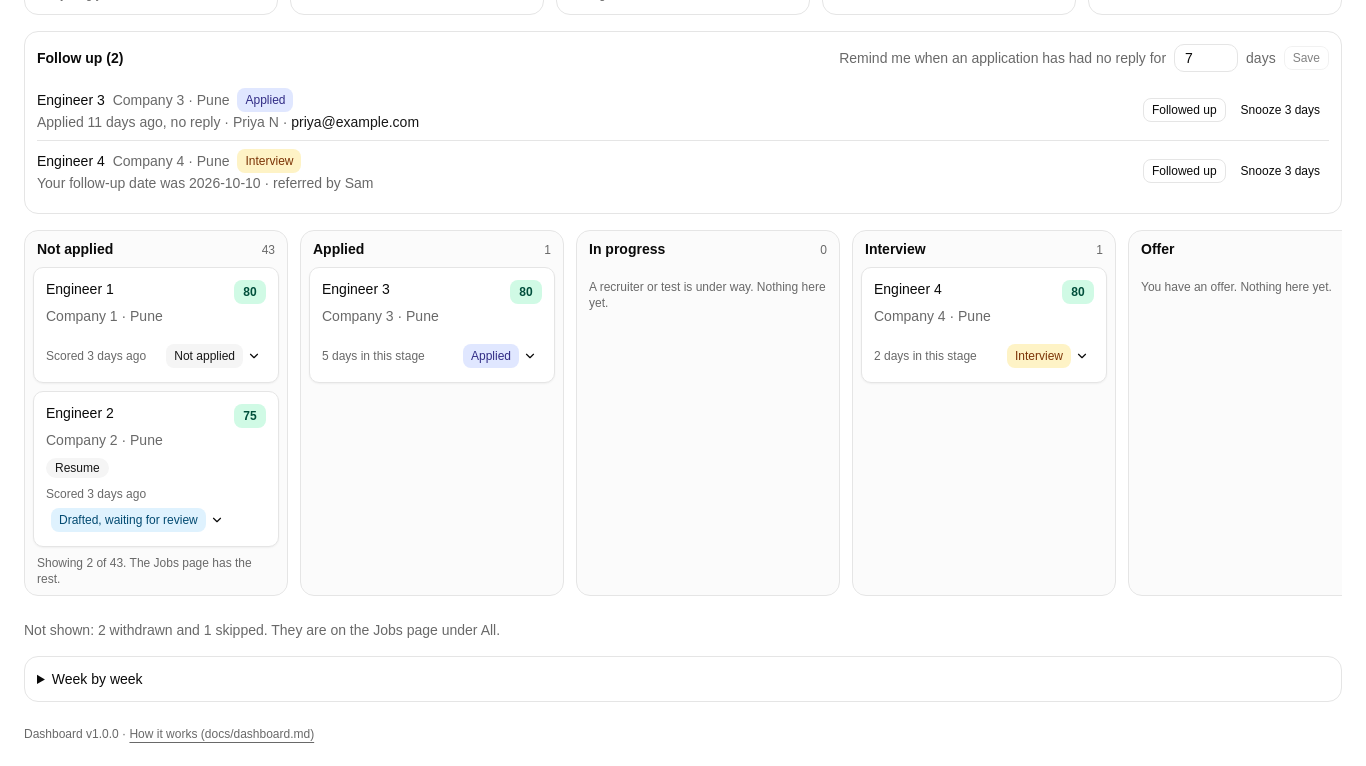
Test case: the board page › lists the last 12 weeks, newest first, in a collapsed table
(page scrolled)
Click the heading "Week by week" at (97, 679), box [52,671,143,687]
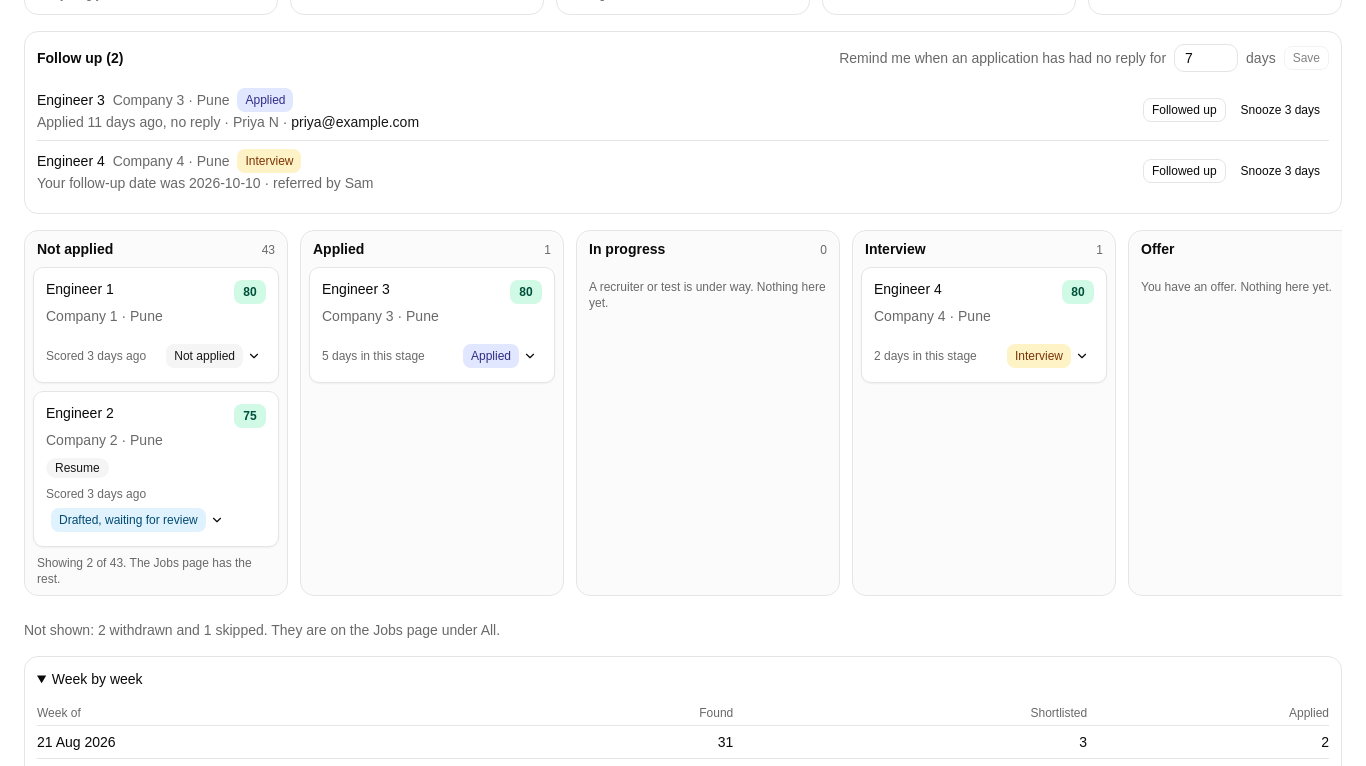
Check: the number of rows is 13
Check: the cells read "31", "3", "2", in this order, box [498,726,741,758]; [741,726,1095,758]; [1095,726,1329,758]
